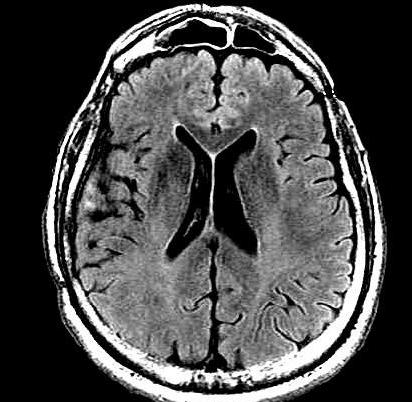Normal_Brain: (47, 1, 395, 402)
